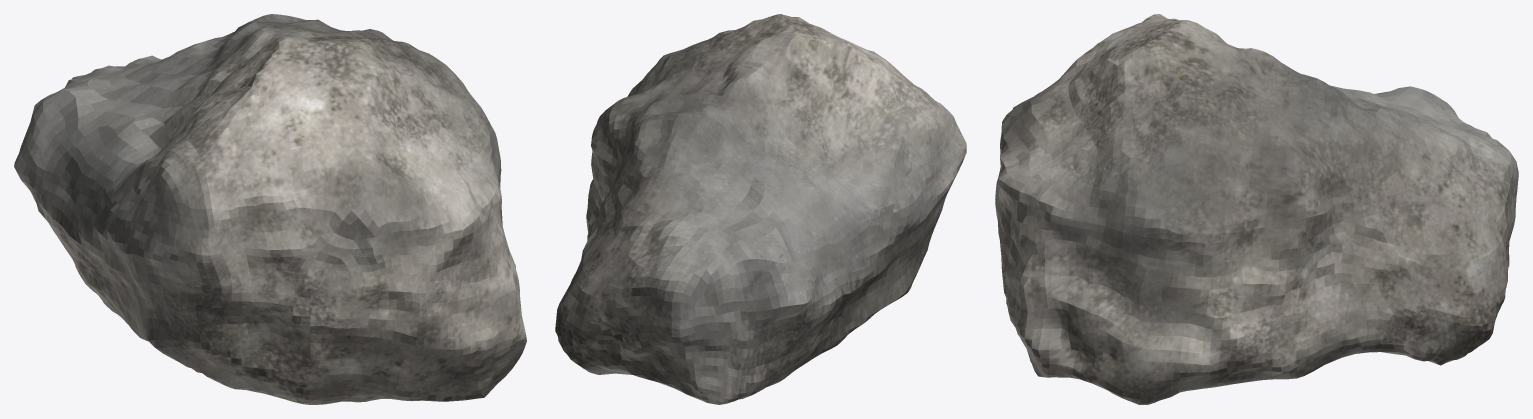
File: rock2.fbx
3 renders of one model, left to right at view 1: azimuth 30°, elevation 25°; view 2: azimuth 150°, elevation 25°; view 3: azimuth 270°, elevation 25°, orthographic. The views are drawn at different scales.
Visible parts, largest first — view 1: rock2_LOW:ZBrush_defualt_group; view 2: rock2_LOW:ZBrush_defualt_group; view 3: rock2_LOW:ZBrush_defualt_group.
Boxes of the visible parts, box(x1,y1,x2,y2) form: rock2_LOW:ZBrush_defualt_group: box(14, 14, 526, 404); rock2_LOW:ZBrush_defualt_group: box(555, 14, 966, 404); rock2_LOW:ZBrush_defualt_group: box(995, 14, 1518, 404).
Size of the model in its own units: 2.89 by 2.44 by 3.79.
1 material, 1 textured.
